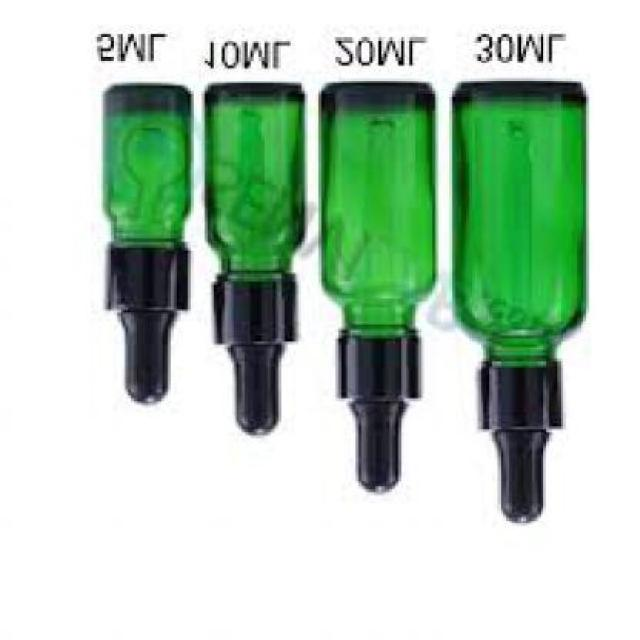GLASS: (452, 83, 583, 369), (318, 85, 436, 338), (202, 88, 301, 282), (100, 87, 188, 250)
PLASTIC: (106, 250, 186, 407), (480, 367, 558, 527), (210, 282, 290, 436), (338, 344, 416, 494)
